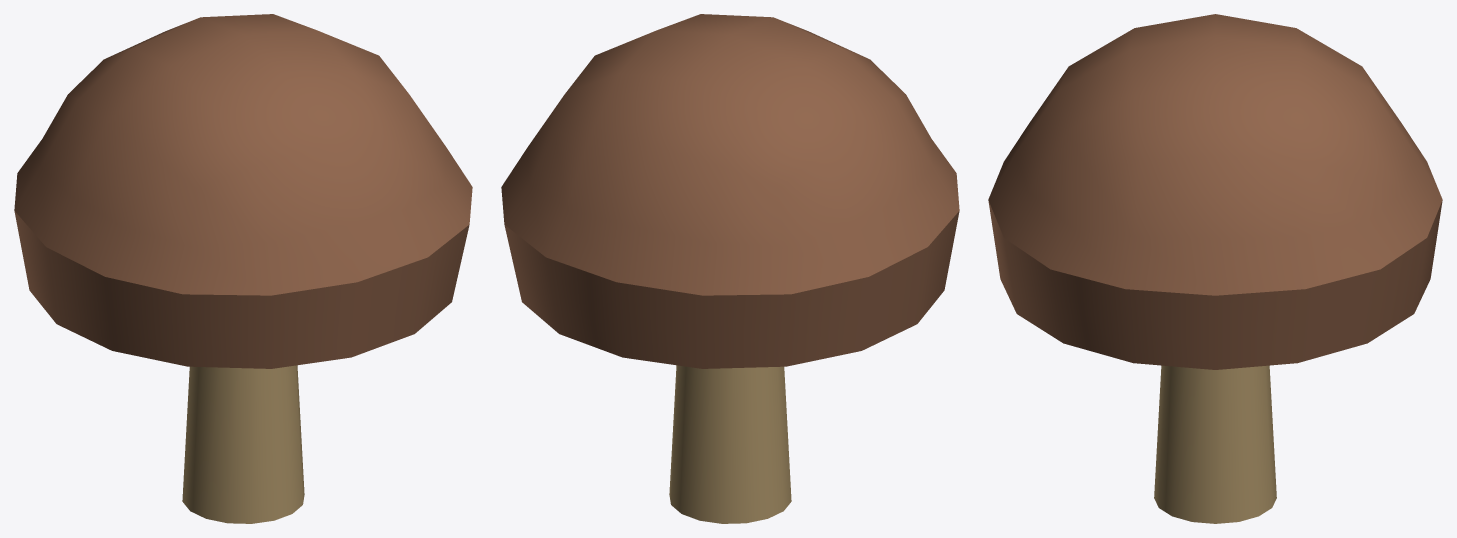
Rendered from Mushroom.fbx.
3 views of the same model, side by side, from view 1: azimuth 30°, elevation 25°; view 2: azimuth 150°, elevation 25°; view 3: azimuth 270°, elevation 25° (orthographic).
Parts seen in each view (by area): view 1: Cube.078; view 2: Cube.078; view 3: Cube.078.
Part boxes in pixels (x1,y1,x2,y2): Cube.078: (14, 14, 472, 523); Cube.078: (501, 14, 959, 523); Cube.078: (988, 14, 1442, 523).
Size of the model in its own units: 44.39 by 49.74 by 44.39.
